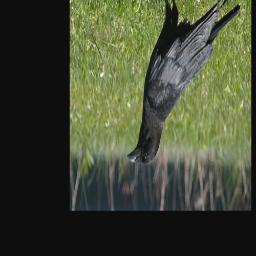Crow: (126, 0, 241, 166)
